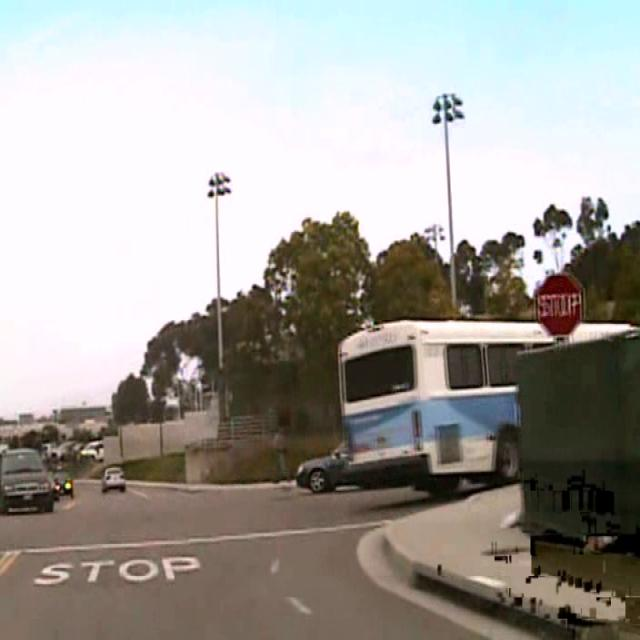stop: (534, 271, 584, 336)
